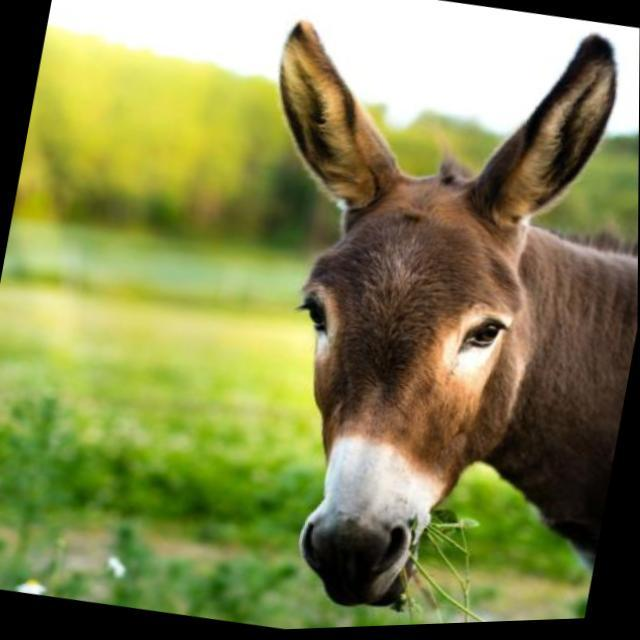Donkey: (177, 0, 640, 635)
